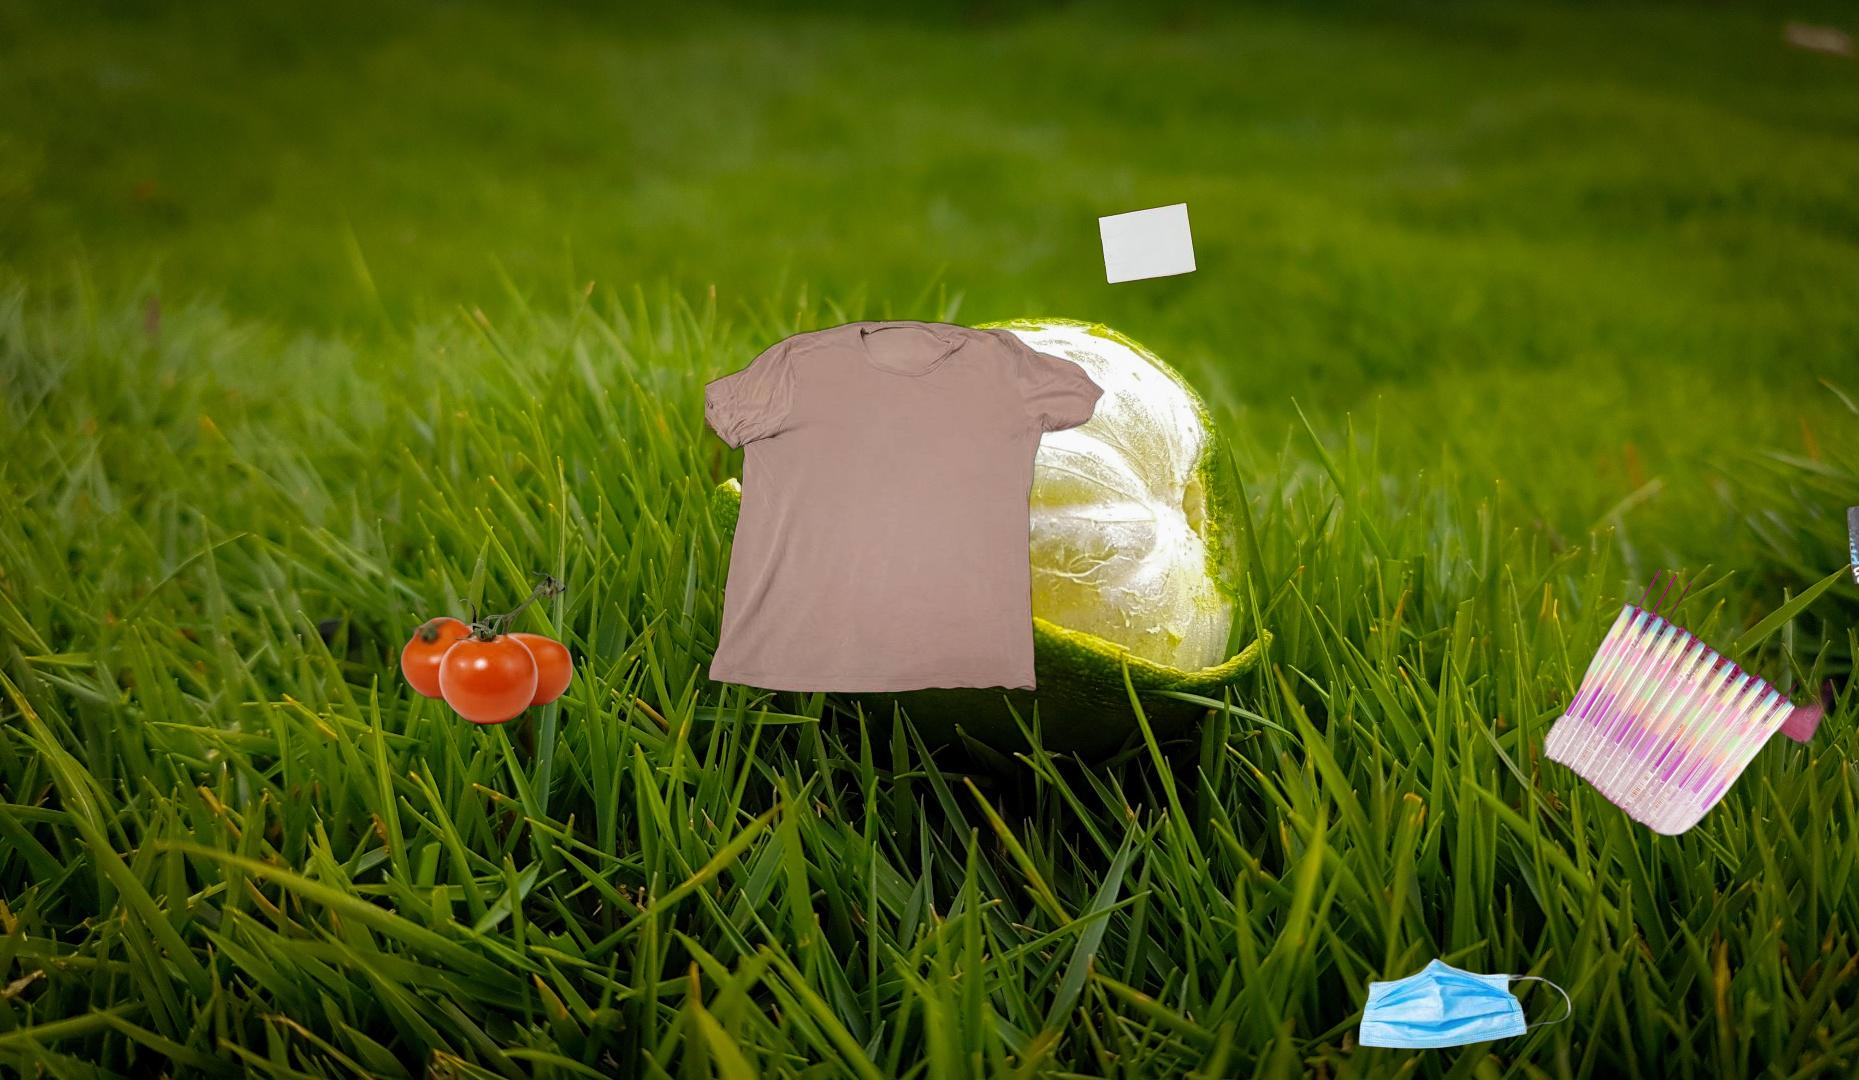biological: (397, 567, 576, 726)
clothes: (705, 285, 1106, 698)
paper-bag: (1095, 201, 1199, 287)
penholder: (1535, 561, 1835, 836)
trash: (1320, 957, 1574, 1052)
trashbox-cardboard: (1718, 483, 1859, 584)
